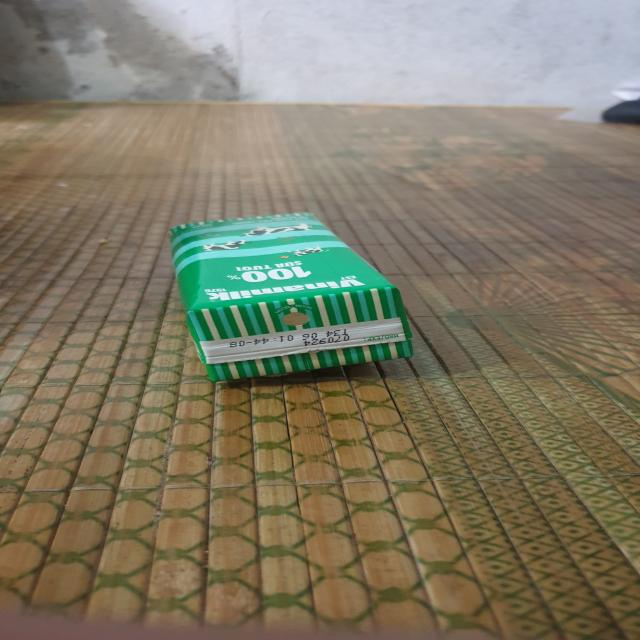Vina: (161, 210, 422, 387)
